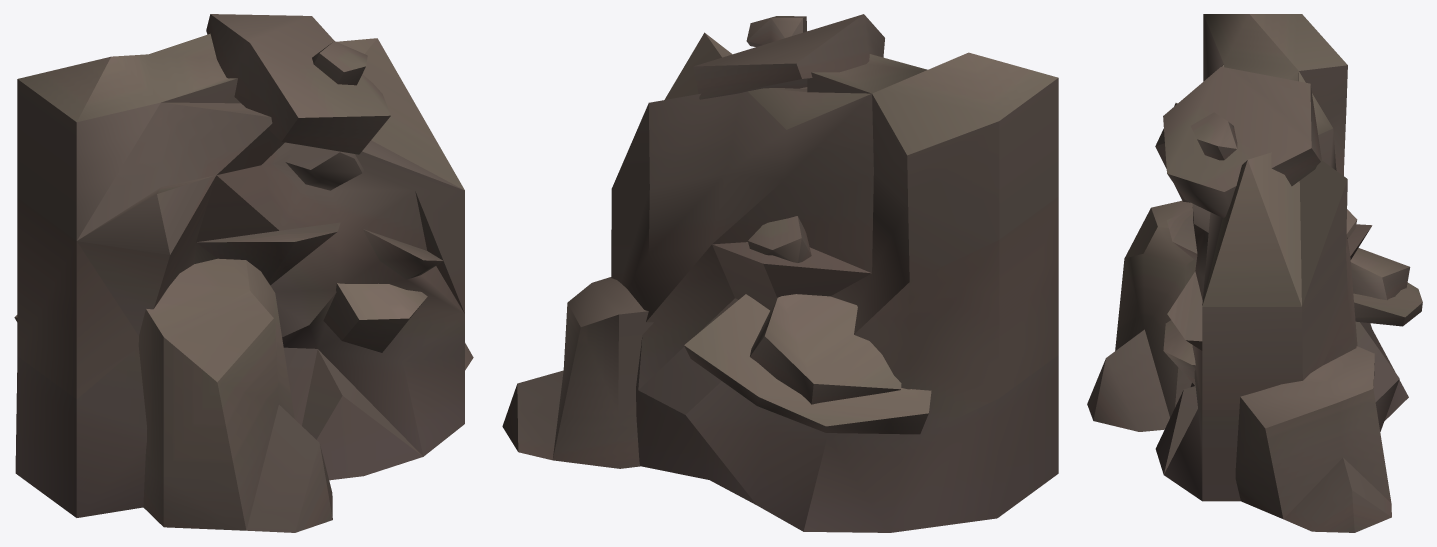
File: kcas_rubble_half.glb
3 renders of one model, left to right at view 1: azimuth 30°, elevation 25°; view 2: azimuth 150°, elevation 25°; view 3: azimuth 270°, elevation 25°, orthographic. The views are drawn at different scales.
Visible parts, largest first — view 1: rubble_half; view 2: rubble_half; view 3: rubble_half.
Boxes of the visible parts, <box> form: rubble_half: <box>14,14,473,532</box>; rubble_half: <box>502,14,1058,532</box>; rubble_half: <box>1087,14,1422,532</box>.
Bounding box in the file's own units: 4 × 3.5 × 3.
1 material, 1 textured.
